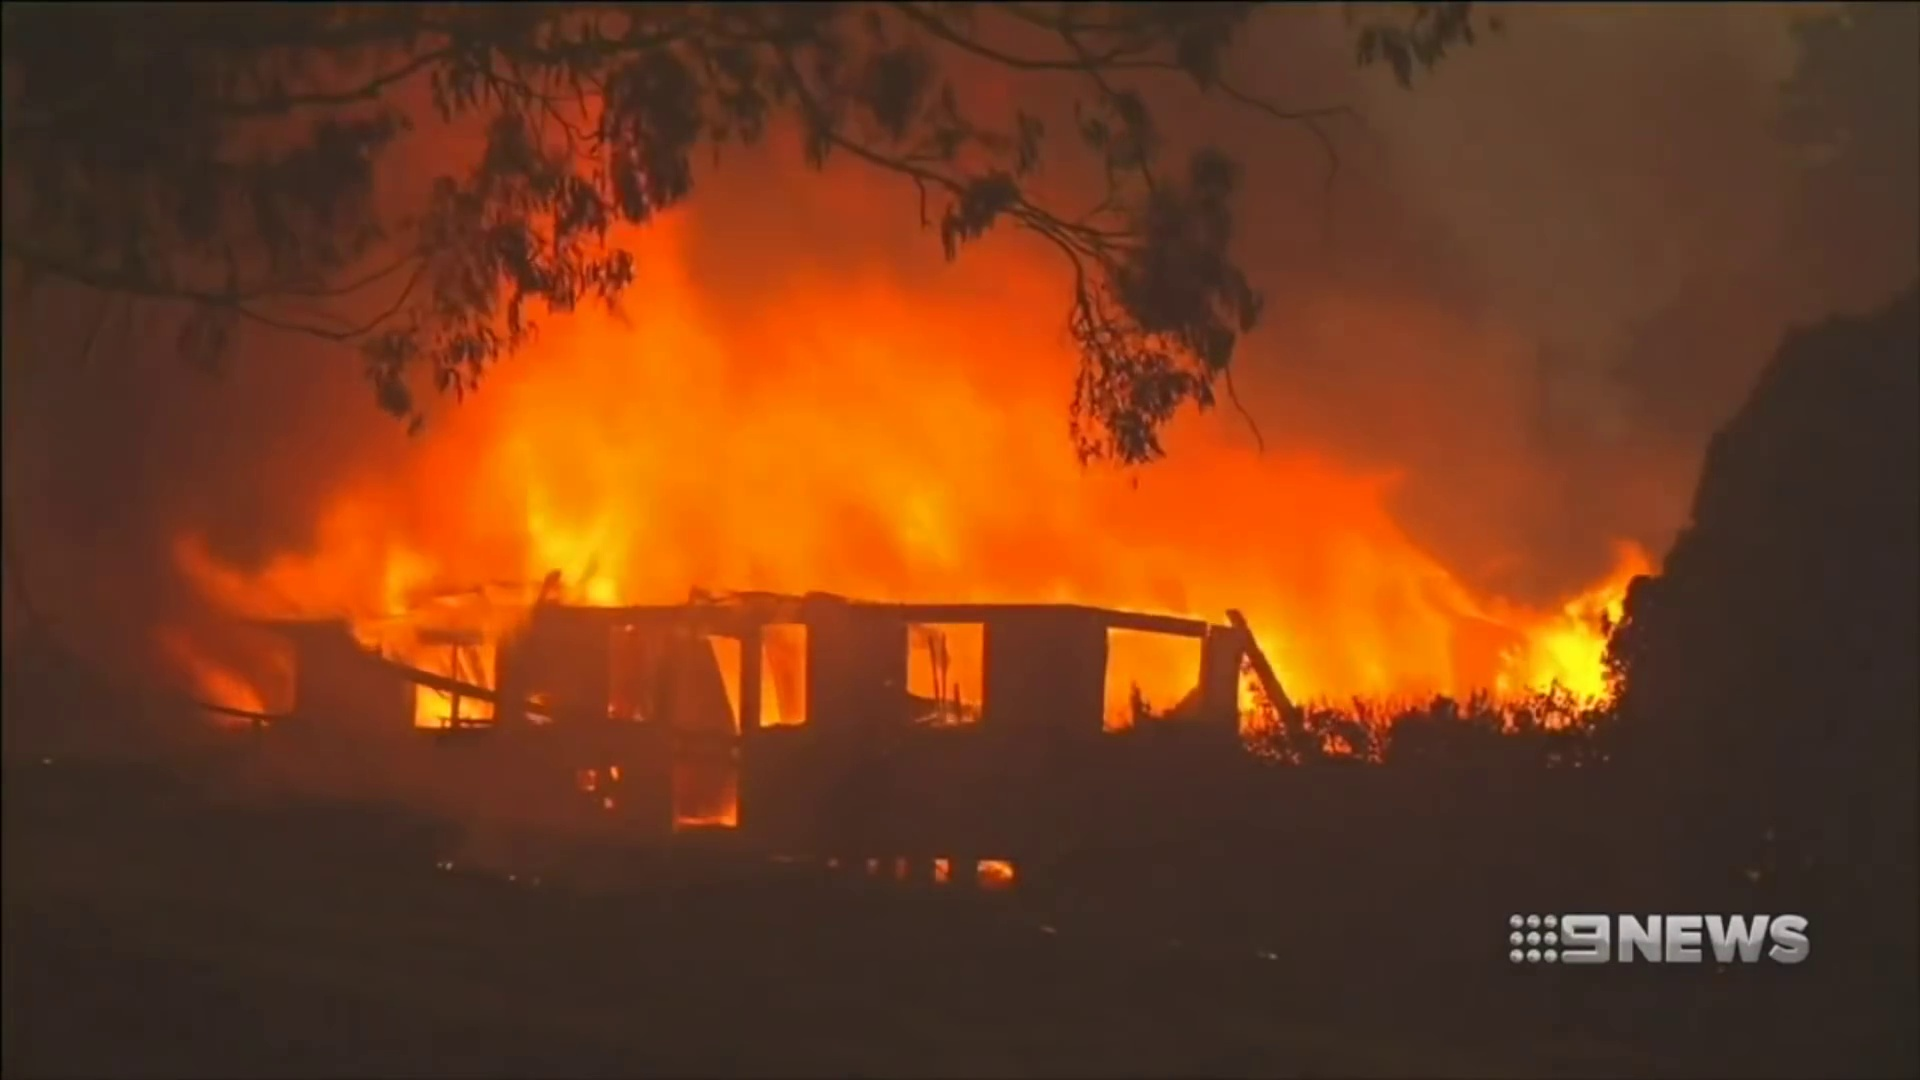fire: (1553, 622, 1604, 694)
